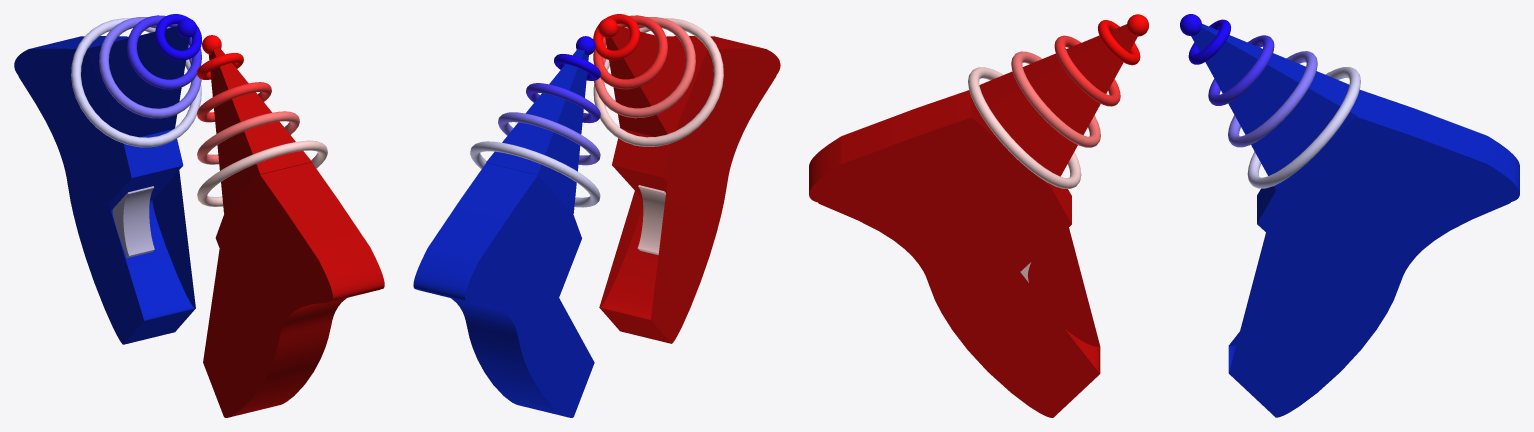
File: Armas.fbx
The picture shows the model from 3 angles, left to right: view 1: azimuth 30°, elevation 25°; view 2: azimuth 150°, elevation 25°; view 3: azimuth 270°, elevation 25°; orthographic projection. The views are drawn at different scales.
Parts seen in each view (by area): view 1: Cap_2, Cap_1_3, Extrude, Extrude_2, Pyramid, Pyramid_2, Torus_3_2, Cap_2_3, Torus_2_3, Torus_3, Extrude_1_2, Torus_1_2 (+5 smaller); view 2: Cap_2, Cap_1_3, Extrude_2, Extrude, Pyramid_2, Pyramid, Torus_3, Torus, Torus_3_2, Torus_1, Torus_2_3, Extrude_1 (+4 smaller); view 3: Cap_2_3, Cap_1, Pyramid_2, Pyramid, Extrude, Extrude_2, Cap_2, Torus_3_2, Torus_3, Torus, Torus_2_3, Torus_1 (+3 smaller).
Part boxes in pixels (x1,y1,x2,y2): Cap_2: [203, 175, 332, 417]; Cap_1_3: [14, 48, 143, 344]; Extrude: [231, 162, 384, 416]; Extrude_2: [30, 36, 195, 344]; Pyramid: [208, 47, 311, 213]; Pyramid_2: [87, 26, 189, 137]; Torus_3_2: [71, 18, 201, 147]; Cap_2_3: [152, 170, 195, 308]; Torus_2_3: [99, 17, 201, 118]; Torus_3: [197, 140, 327, 206]; Extrude_1_2: [123, 186, 154, 257]; Torus_1_2: [127, 15, 201, 89]; Cap_2: [651, 48, 780, 343]; Cap_1_3: [465, 175, 594, 417]; Extrude_2: [413, 163, 567, 417]; Extrude: [599, 36, 764, 343]; Pyramid_2: [486, 49, 588, 213]; Pyramid: [605, 26, 707, 136]; Torus_3: [593, 18, 723, 146]; Torus: [594, 17, 695, 118]; Torus_3_2: [470, 141, 600, 207]; Torus_1: [593, 15, 667, 89]; Torus_2_3: [498, 112, 600, 165]; Extrude_1: [637, 185, 665, 255]; Cap_2_3: [1229, 117, 1519, 417]; Cap_1: [809, 117, 1099, 417]; Pyramid_2: [1191, 24, 1357, 189]; Pyramid: [971, 24, 1137, 189]; Extrude: [809, 90, 1100, 373]; Extrude_2: [1228, 90, 1519, 373]; Cap_2: [1027, 227, 1099, 346]; Torus_3_2: [1247, 67, 1360, 188]; Torus_3: [968, 67, 1081, 188]; Torus: [1011, 51, 1100, 147]; Torus_2_3: [1228, 51, 1317, 147]; Torus_1: [1054, 35, 1120, 106].
Bounding box in the file's own units: 283 × 771 × 1278.
